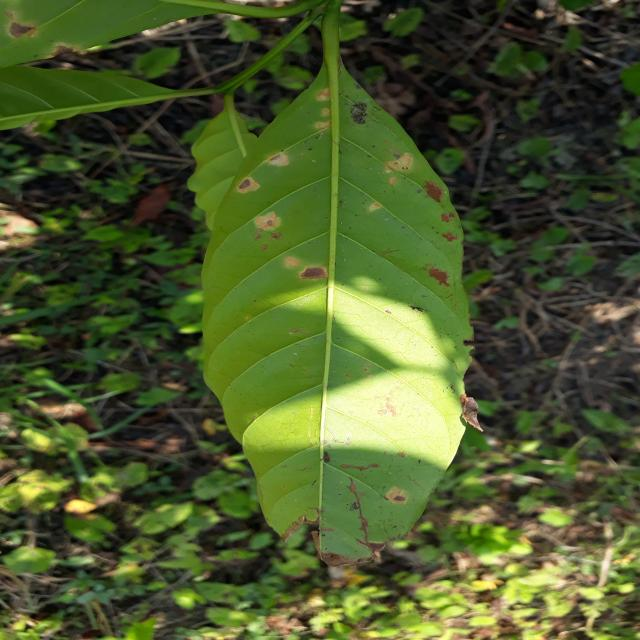Enfermedad-Roya: (187, 14, 473, 562)
